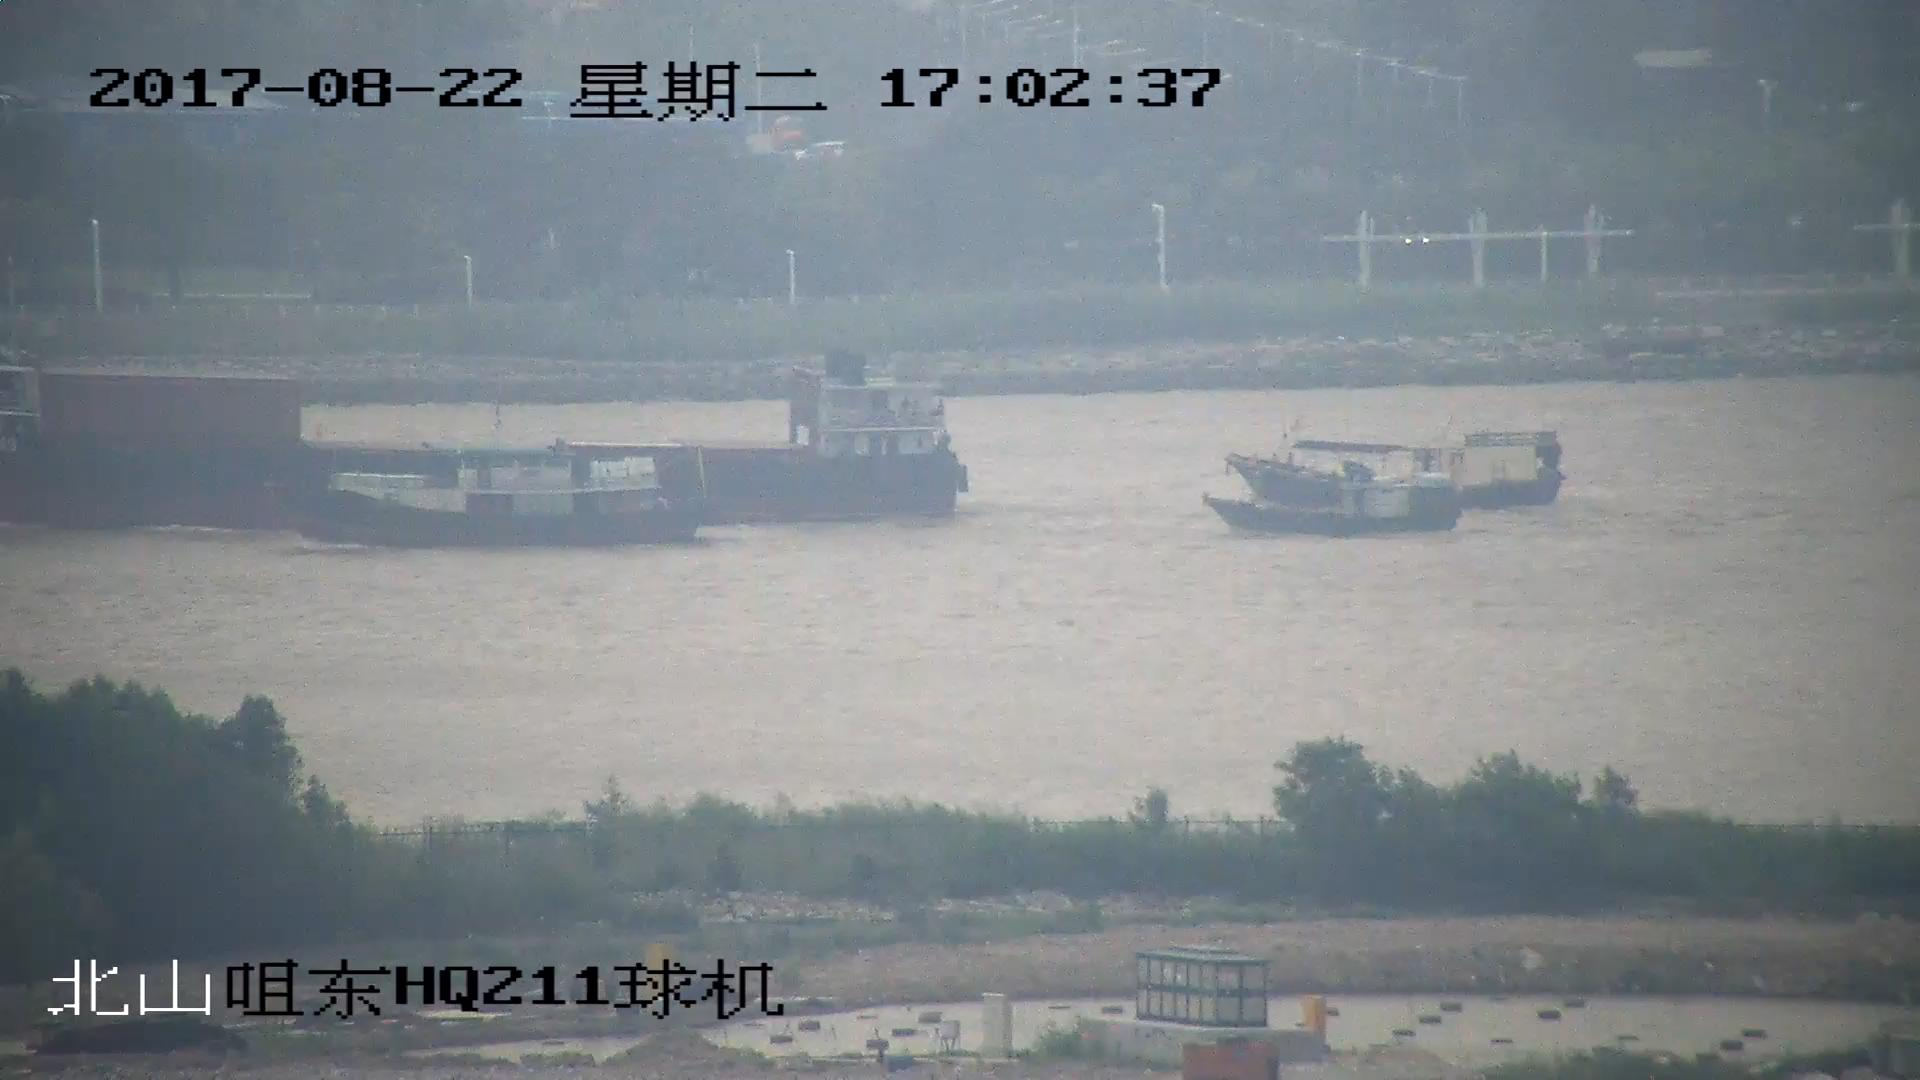fishing boat: (293, 441, 697, 554), (1231, 424, 1561, 508), (1206, 469, 1461, 535)
general cargo ship: (1, 343, 974, 525)
